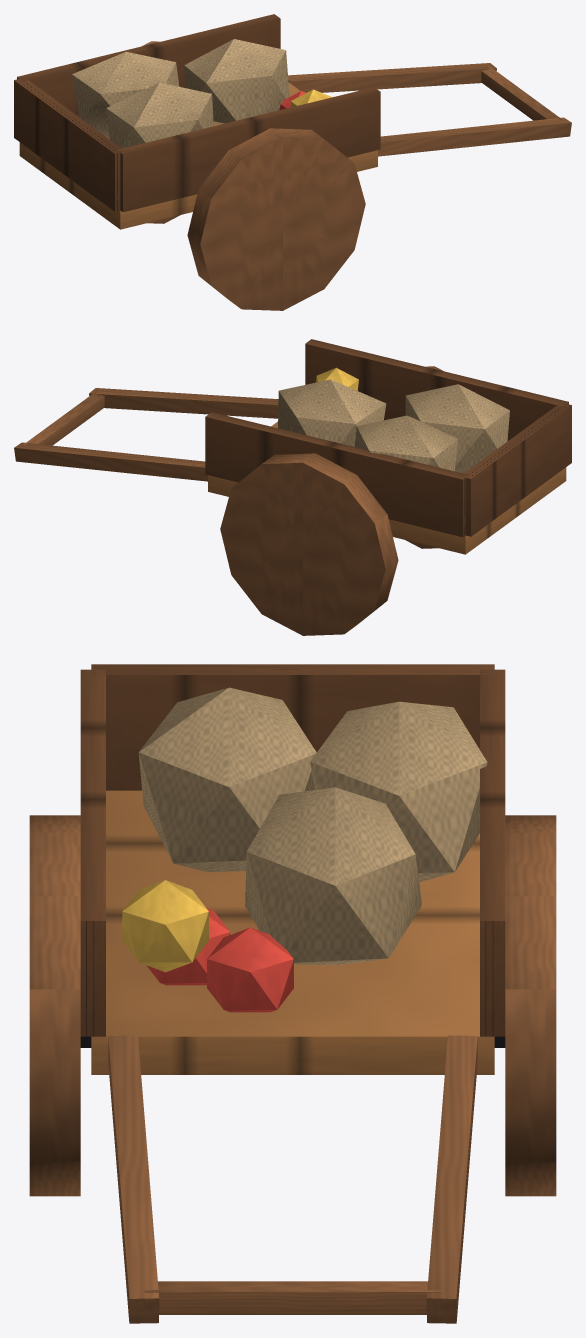
File: prop_cart_01.glb
3 renders of one model, top to bottom at view 1: azimuth 30°, elevation 25°; view 2: azimuth 150°, elevation 25°; view 3: azimuth 270°, elevation 25°, orthographic. The views are drawn at different scales.
Visible parts, largest first — view 1: prop_cart_01; view 2: prop_cart_01; view 3: prop_cart_01.
Part boxes in pixels (bbox=[...]): prop_cart_01: bbox=[14, 14, 571, 310]; prop_cart_01: bbox=[14, 339, 571, 635]; prop_cart_01: bbox=[29, 664, 556, 1323].
Bounding box in the file's own units: 2.54 × 1.09 × 1.24.
1 material, 1 textured.
